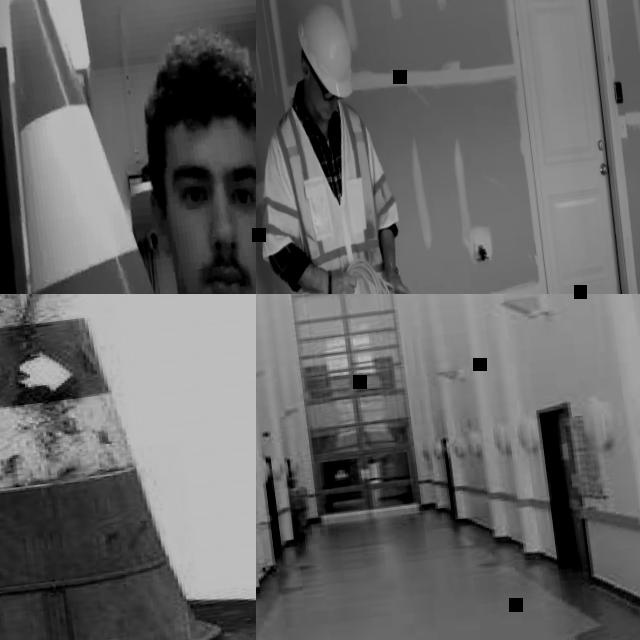Hardhat: (293, 0, 357, 100)
NO-Hardhat: (142, 16, 256, 158)
NO-Mask: (183, 246, 256, 294), (309, 81, 334, 124)
Person: (0, 11, 256, 294), (256, 0, 468, 294)
Safety Cone: (0, 294, 256, 640), (0, 0, 255, 294)
Safety Vest: (256, 94, 406, 294)
